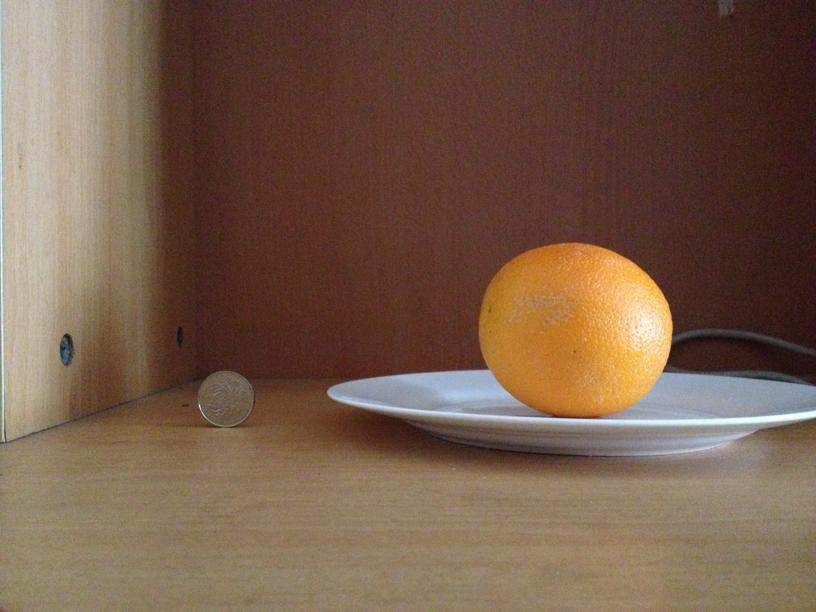coin: (197, 371, 252, 427)
orange: (477, 241, 670, 413)
